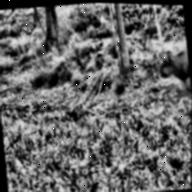boar: (146, 33, 191, 95)
